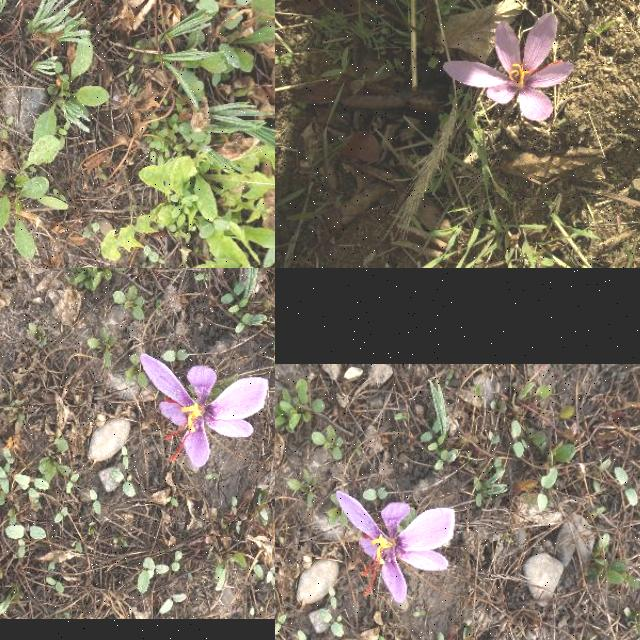flower: (140, 354, 268, 468), (444, 12, 576, 122), (338, 492, 454, 604)
